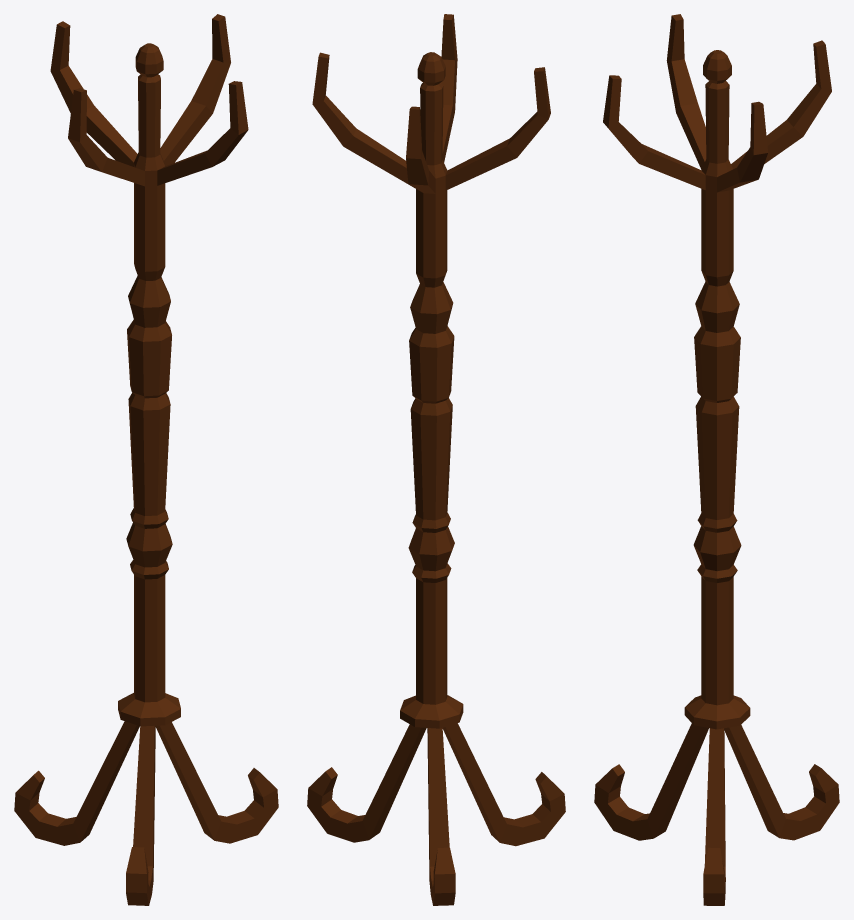
File: hanger.fbx
The picture shows the model from 3 angles, left to right: view 1: azimuth 30°, elevation 25°; view 2: azimuth 150°, elevation 25°; view 3: azimuth 270°, elevation 25°; orthographic projection.
Parts seen in each view (by area): view 1: hanger; view 2: hanger; view 3: hanger.
Part boxes in pixels (x1,y1,x2,y2): hanger: [14, 14, 278, 905]; hanger: [307, 14, 565, 905]; hanger: [594, 14, 839, 905].
Bounding box in the file's own units: 52.87 × 184 × 50.84.
